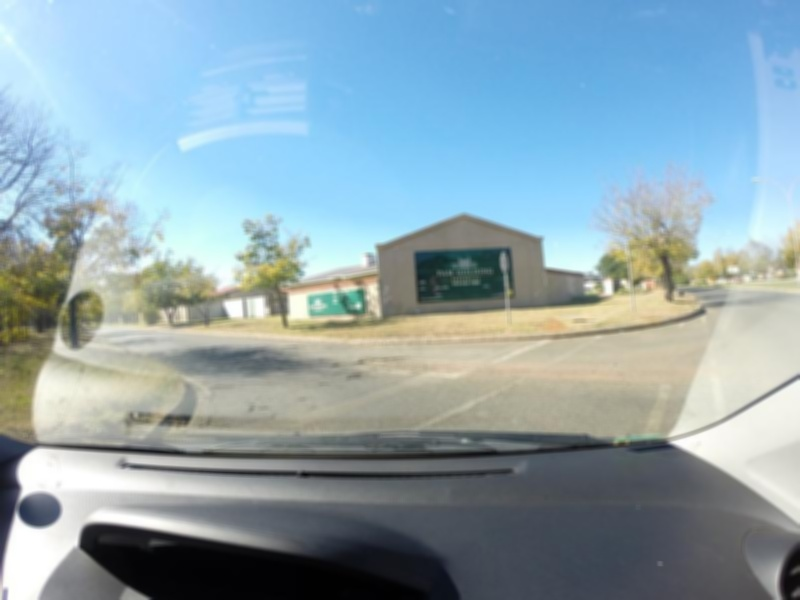pothole: (332, 349, 468, 380)
